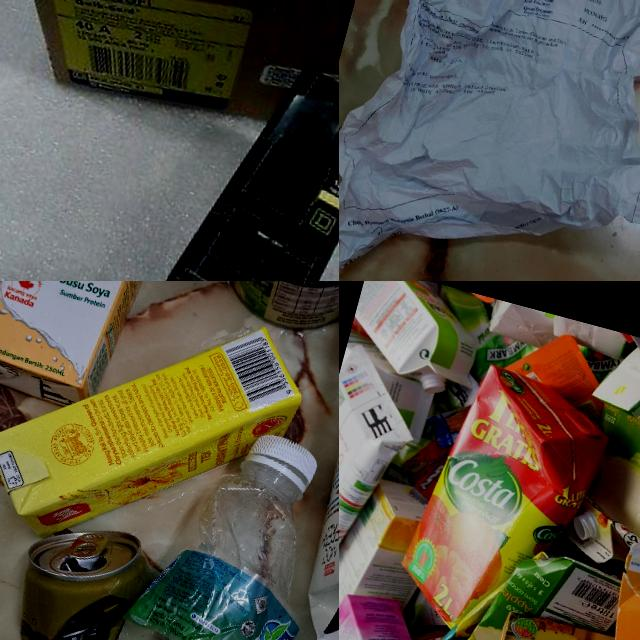aba de lata: (66, 526, 110, 564)
caixinha: (0, 281, 315, 591), (383, 353, 620, 640), (339, 341, 435, 599), (0, 281, 176, 419), (272, 281, 339, 640), (340, 281, 497, 405)
garrafa plástica: (73, 442, 339, 640)
lata: (0, 502, 171, 640), (209, 281, 339, 346)
papel: (339, 0, 640, 281)
papelão: (0, 0, 339, 175)
tampa plástica: (242, 430, 322, 489)
